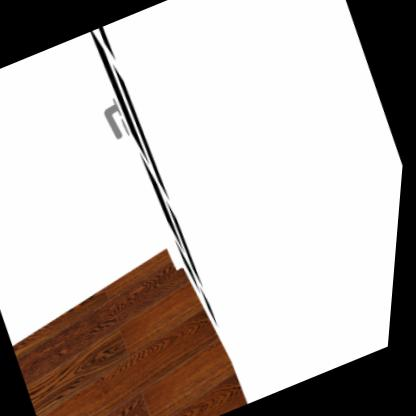Wooden floor: (20, 251, 254, 416)
